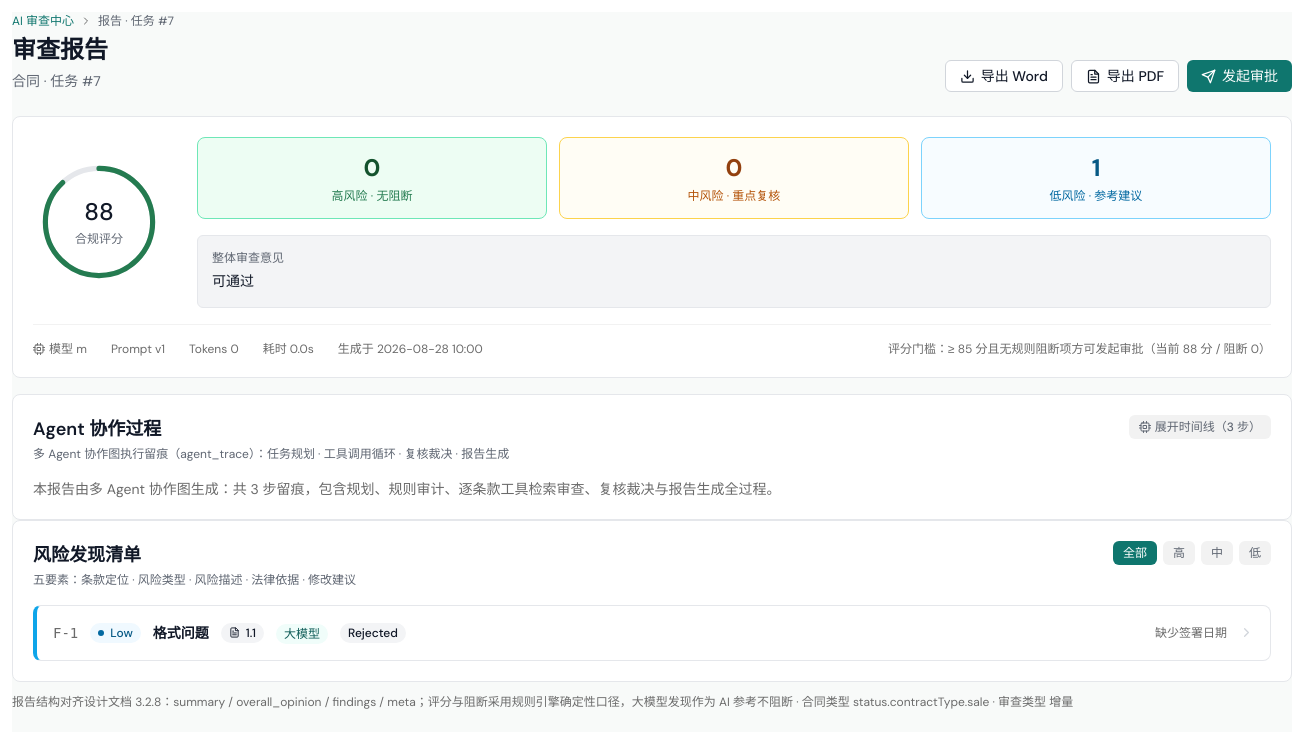
it: ReviewReportView 补充 › 留痕摘要覆盖空判决/无工具/无统计三类兜底
Click the button "展开时间线（3 步）" at (1200, 427), box x1=1129 y1=415 x2=1271 y2=439
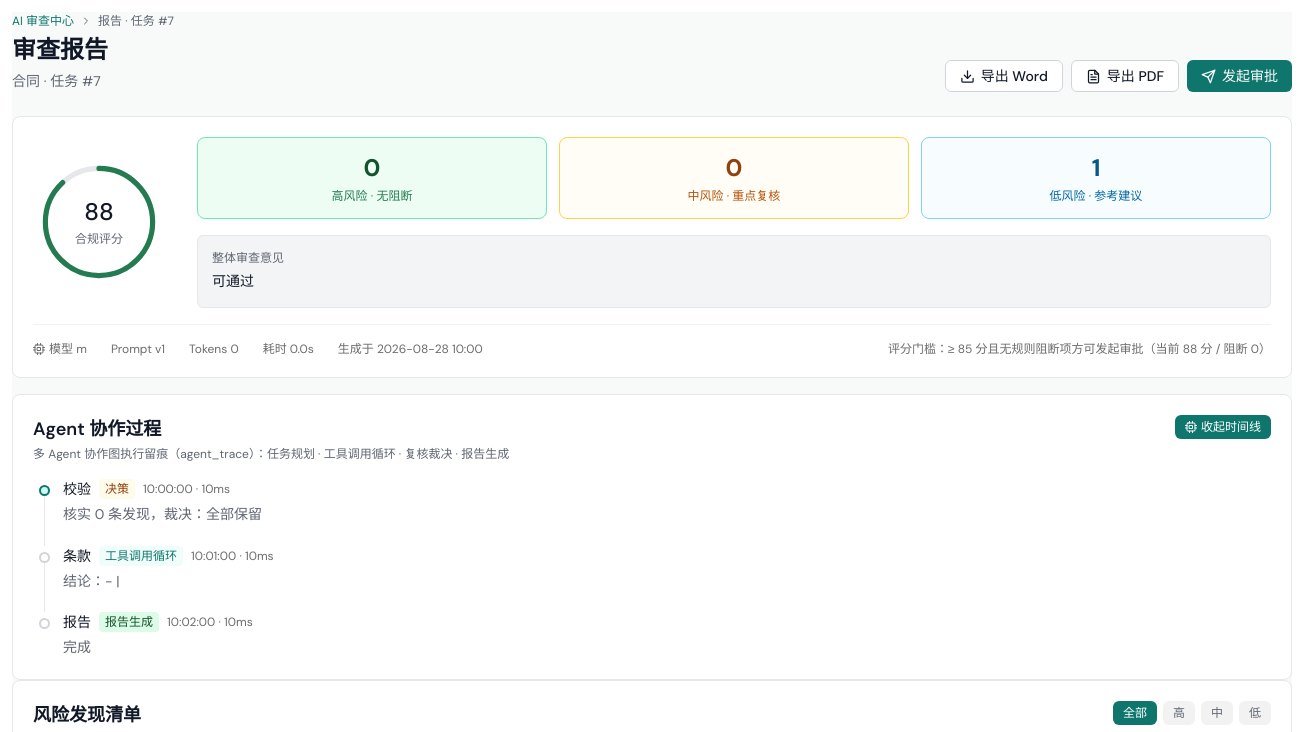
expect the text "完成" is shown: met, box x1=63 y1=638 x2=91 y2=656
